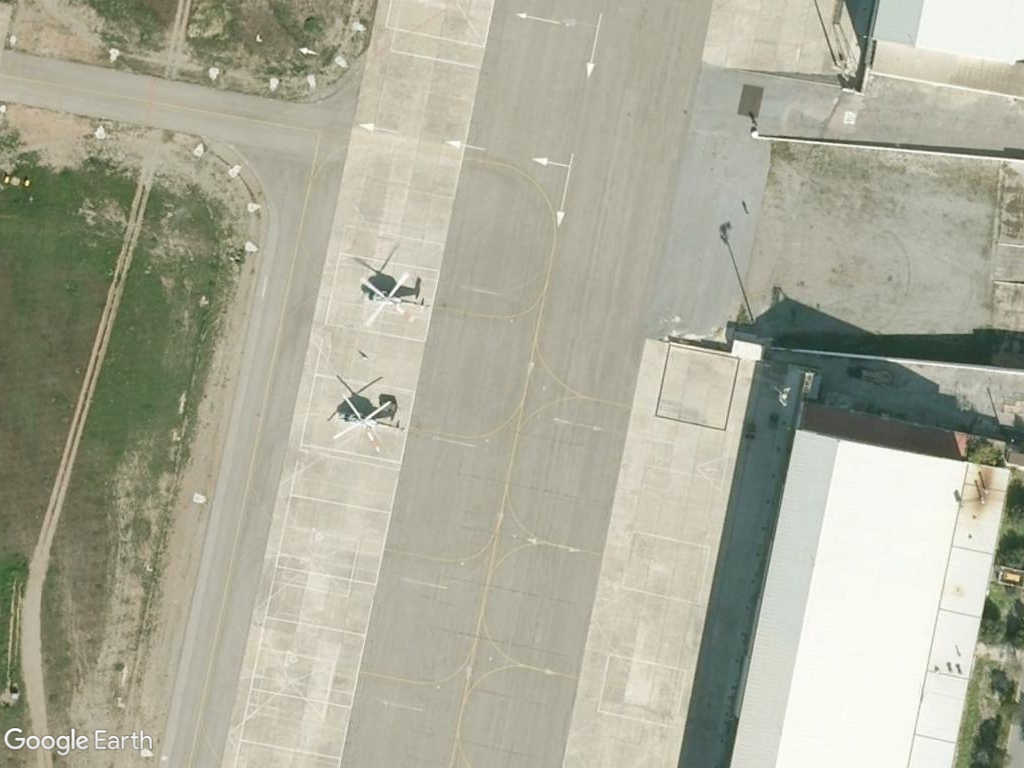helicopter: (320, 389, 412, 461), (350, 270, 435, 332)
